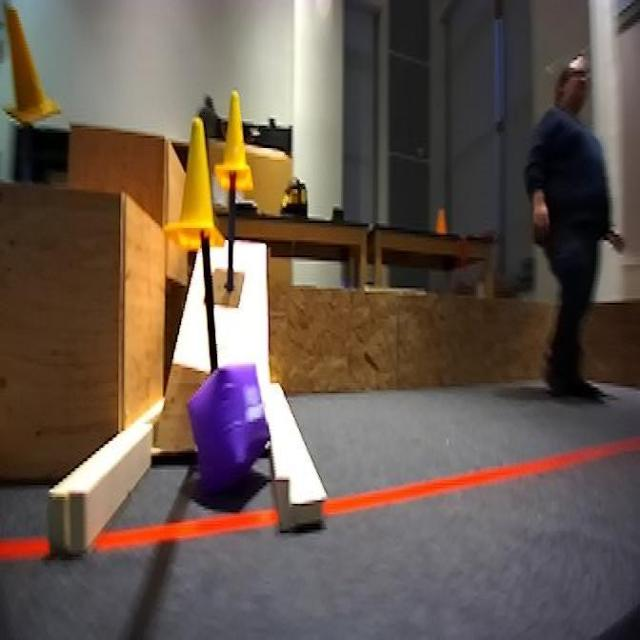frc_cone: (159, 116, 223, 264), (0, 0, 64, 143), (217, 96, 259, 192)
frc_cube: (190, 364, 274, 499)
